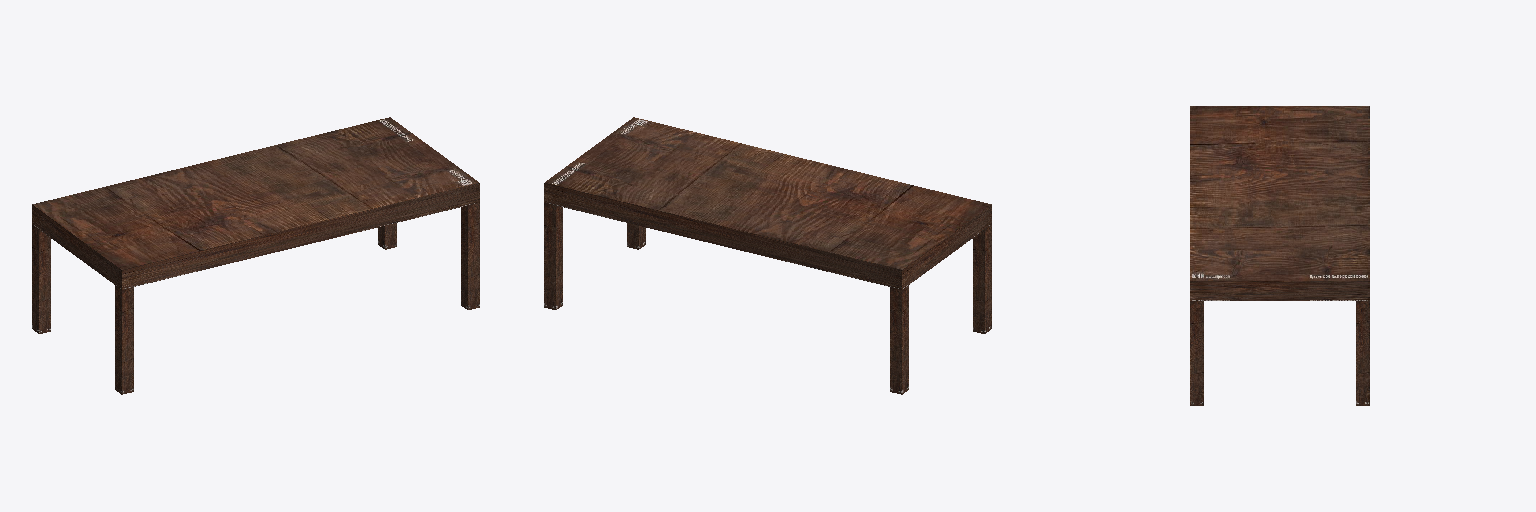
3 renders of one model, left to right at view 1: azimuth 30°, elevation 25°; view 2: azimuth 150°, elevation 25°; view 3: azimuth 270°, elevation 25°, orthographic.
Visible parts, largest first — view 1: table; view 2: table; view 3: table.
Part boxes in pixels (left/top/right/bottom): table: left=32, top=117, right=479, bottom=394; table: left=544, top=117, right=991, bottom=394; table: left=1190, top=106, right=1369, bottom=405.
Bounding box in the file's own units: 1500 × 500 × 650.
Materials: 1 (1 with a texture image).